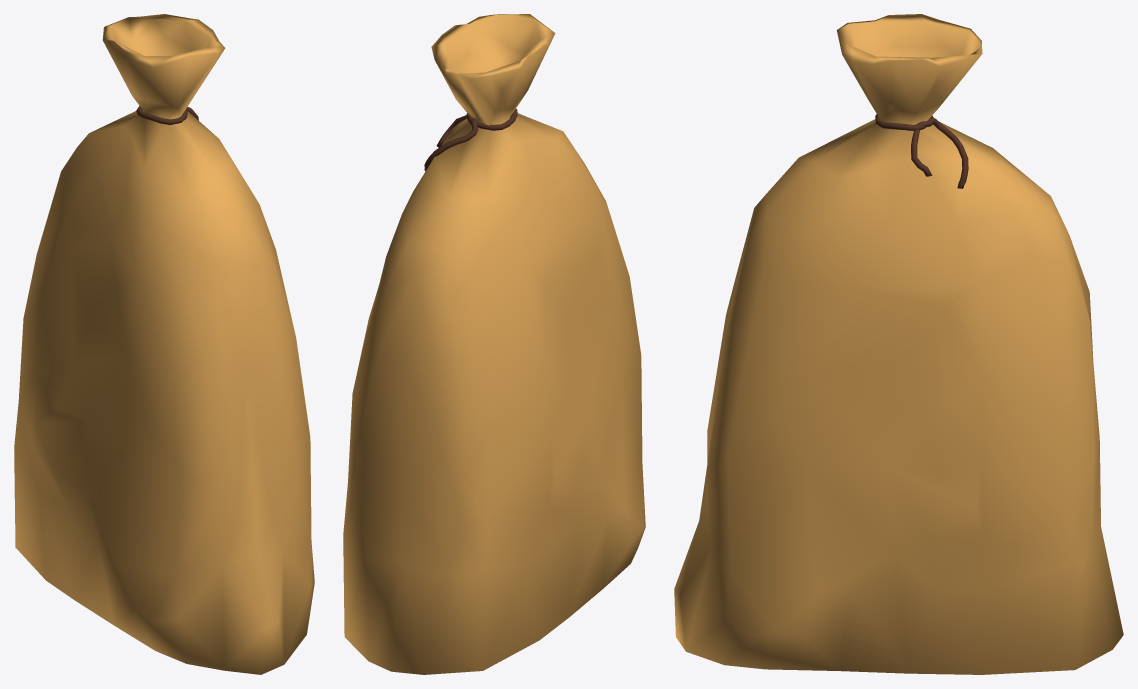
File: sack_lowpoly.dae
3 renders of one model, left to right at view 1: azimuth 30°, elevation 25°; view 2: azimuth 150°, elevation 25°; view 3: azimuth 270°, elevation 25°, orthographic. The views are drawn at different scales.
Visible parts, largest first — view 1: Sack1; view 2: Sack1, Cord; view 3: Sack1, Cord.
Boxes of the visible parts, <box> form: Sack1: <box>14,14,314,674</box>; Sack1: <box>343,14,645,674</box>; Cord: <box>424,109,517,171</box>; Sack1: <box>674,14,1123,674</box>; Cord: <box>875,114,968,188</box>.
Bounding box in the file's own units: 2.05 × 3.83 × 5.86.
